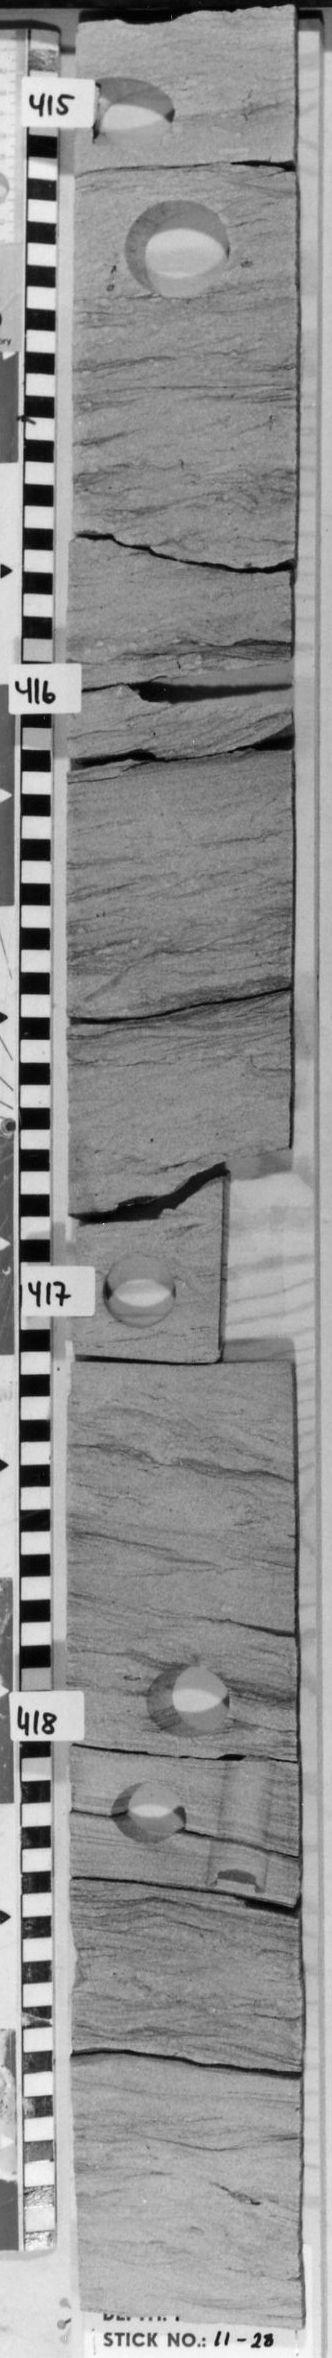hplug: (114, 653, 291, 717), (89, 75, 189, 150), (96, 1250, 183, 1335), (141, 1662, 234, 1741), (107, 1779, 191, 1847)
scal: (119, 195, 239, 301)
vplug: (210, 1138, 291, 1367), (204, 1753, 278, 1899)
